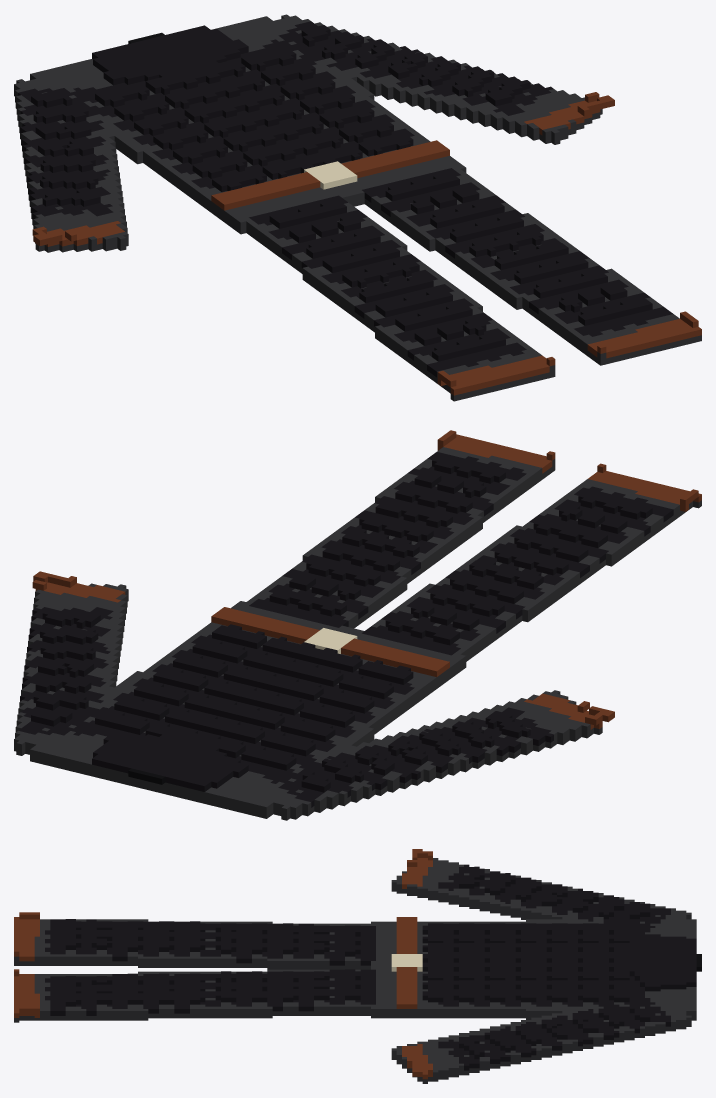
The model's file is suit_black_dragon_scale.glb.
3 renders of one model, top to bottom at view 1: azimuth 30°, elevation 25°; view 2: azimuth 150°, elevation 25°; view 3: azimuth 270°, elevation 25°, orthographic. The views are drawn at different scales.
Parts seen in each view (by area): view 1: suit_black_dragon_scale:compound; view 2: suit_black_dragon_scale:compound; view 3: suit_black_dragon_scale:compound.
Boxes of the visible parts, bbox=[...] form: suit_black_dragon_scale:compound: bbox=[14, 14, 701, 401]; suit_black_dragon_scale:compound: bbox=[14, 430, 701, 820]; suit_black_dragon_scale:compound: bbox=[14, 849, 701, 1083].
Bounding box in the file's own units: 1.02 × 0.03 × 1.33.
